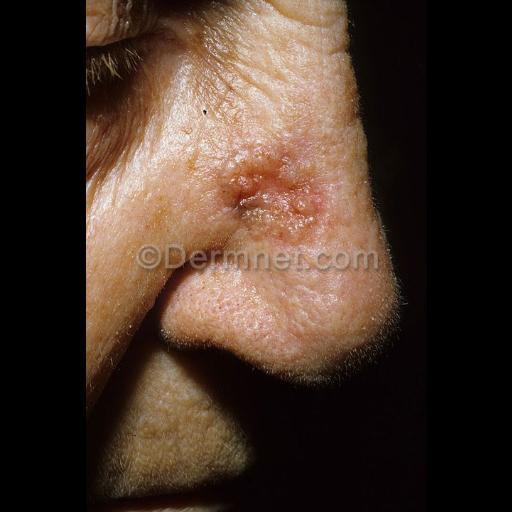Skin_Lesion: (216, 137, 328, 267)
